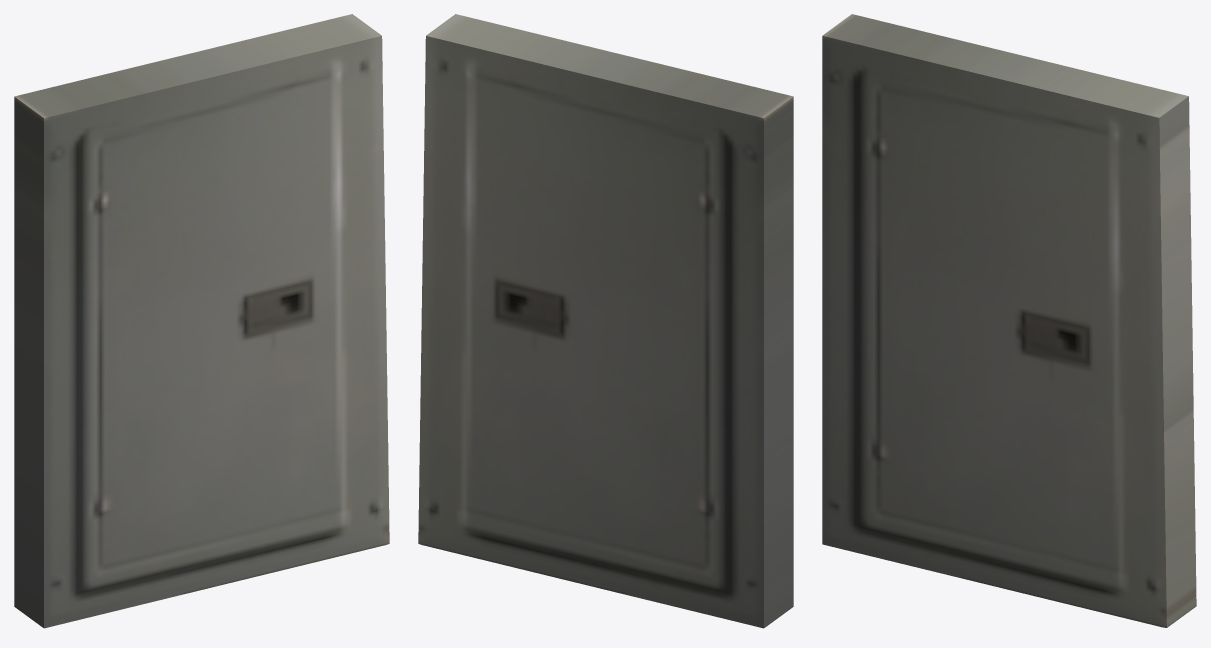
The model's file is breaker.FBX.
3 renders of one model, left to right at view 1: azimuth 30°, elevation 25°; view 2: azimuth 150°, elevation 25°; view 3: azimuth 330°, elevation 25°, orthographic.
Parts seen in each view (by area): view 1: breaker; view 2: breaker; view 3: breaker.
Part boxes in pixels (x1,y1,x2,y2): breaker: [14, 14, 389, 628]; breaker: [418, 14, 793, 628]; breaker: [822, 14, 1196, 627].
Size of the model in its own units: 30.49 by 43.46 by 4.55.
